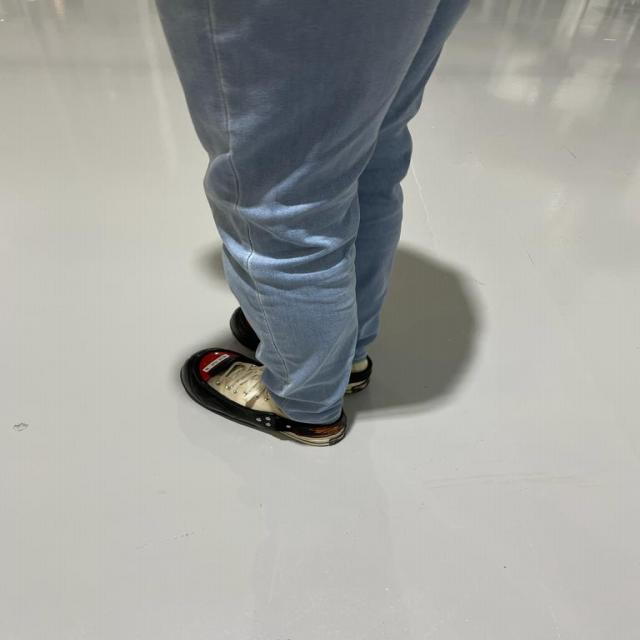shoes: (180, 350, 352, 462), (223, 312, 396, 389)
